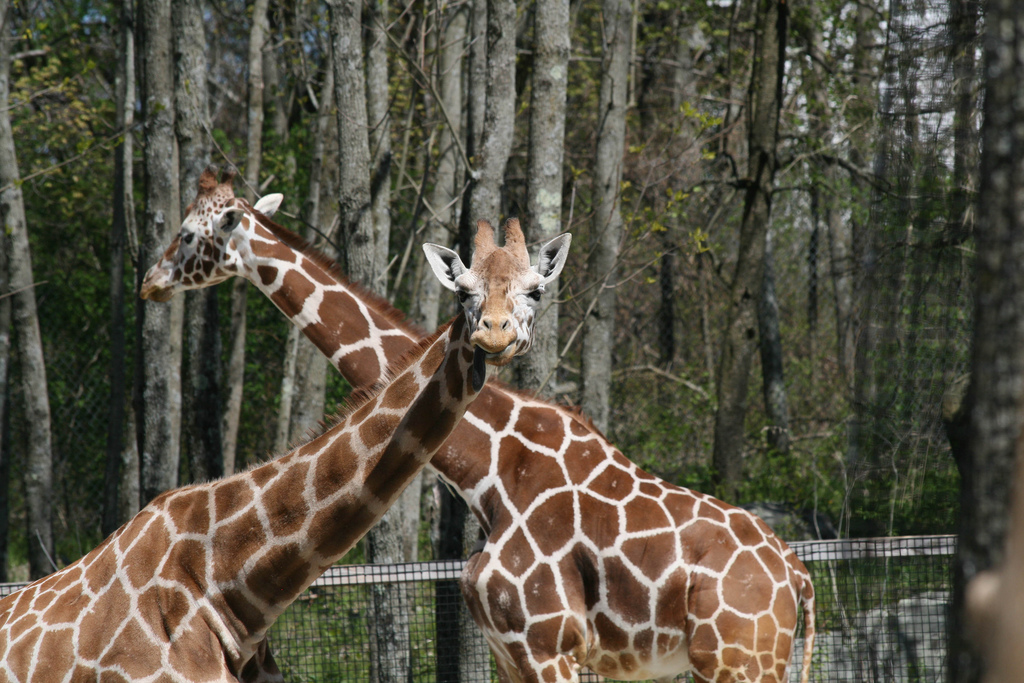giraffe: (143, 174, 864, 665), (43, 227, 576, 670)
